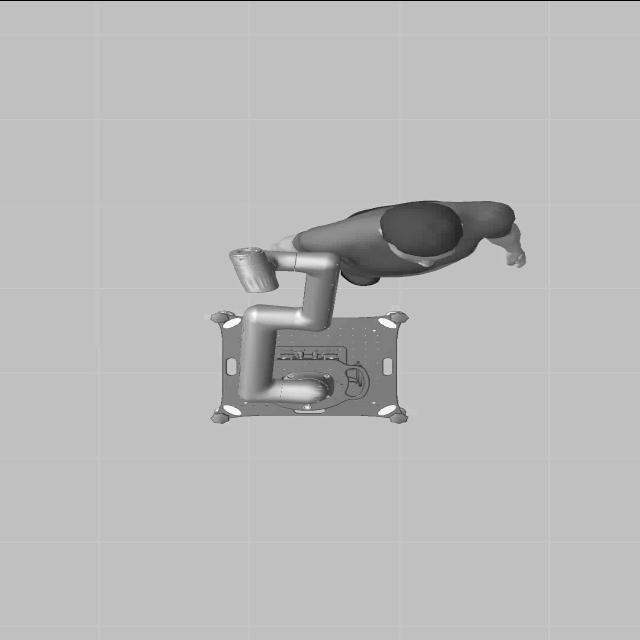human: (269, 200, 526, 286)
robot: (204, 233, 358, 424)
